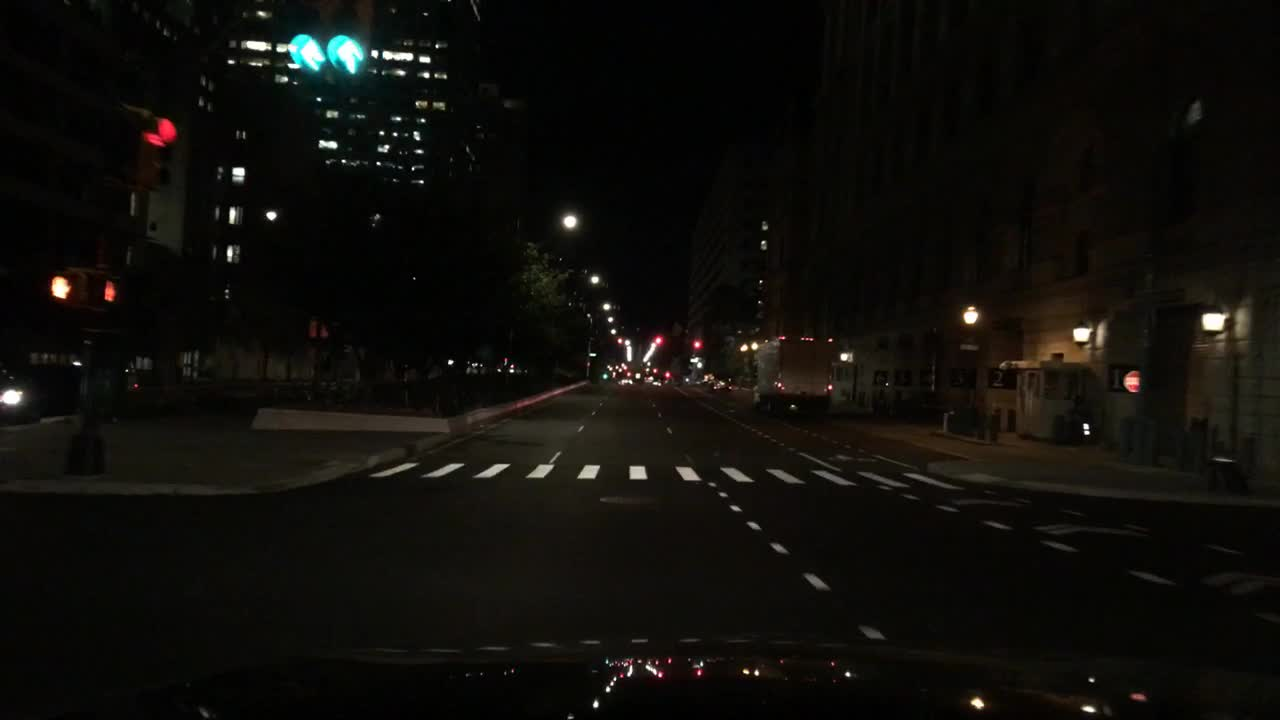car: (0, 366, 78, 423), (94, 354, 141, 395), (493, 359, 524, 376), (710, 376, 733, 391), (701, 372, 714, 385)
traffic light: (127, 101, 178, 195), (323, 0, 373, 87), (285, 1, 326, 79), (45, 264, 89, 309), (100, 275, 117, 306), (692, 336, 703, 351), (653, 333, 663, 348), (661, 370, 673, 379), (625, 367, 634, 378), (616, 335, 624, 347), (651, 364, 659, 375)
traffic sign: (1122, 368, 1143, 395), (306, 318, 331, 338), (584, 350, 600, 359)
truck: (748, 332, 840, 421)
